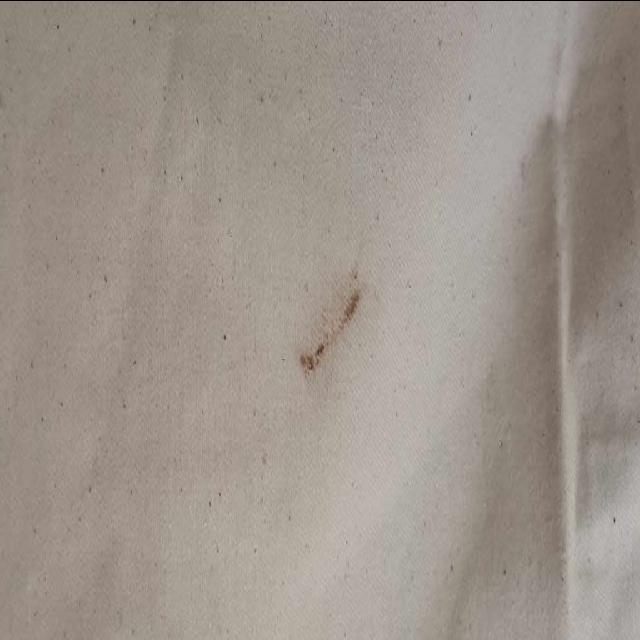taaaches: (283, 224, 372, 434)
